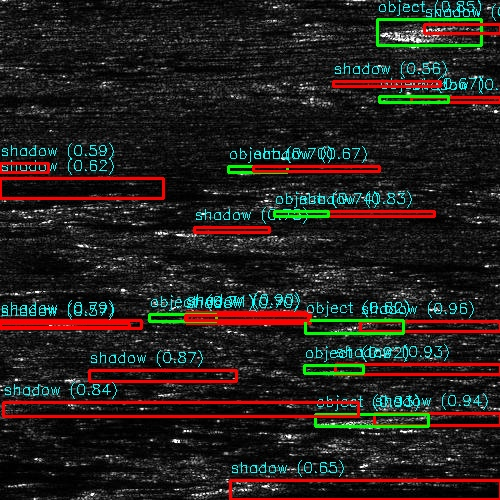rock: (318, 416, 423, 425), (372, 28, 465, 35), (338, 324, 391, 331), (306, 367, 359, 374), (377, 97, 450, 102), (46, 373, 99, 378), (230, 167, 283, 172), (0, 404, 27, 413), (176, 315, 207, 322), (274, 213, 315, 216)
shadow: (0, 404, 365, 413), (0, 489, 154, 500), (0, 157, 56, 178), (333, 367, 500, 374), (371, 416, 500, 425), (365, 324, 500, 331), (73, 373, 237, 378), (192, 315, 304, 322), (0, 321, 138, 326), (257, 167, 374, 172), (419, 28, 500, 35), (414, 97, 500, 102), (295, 213, 411, 216), (0, 166, 14, 175)
